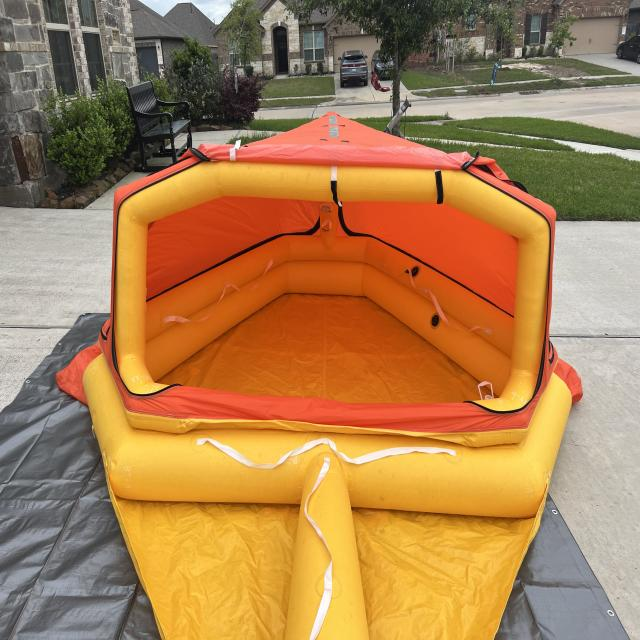Multi-person_life_raft: (54, 112, 584, 639)
